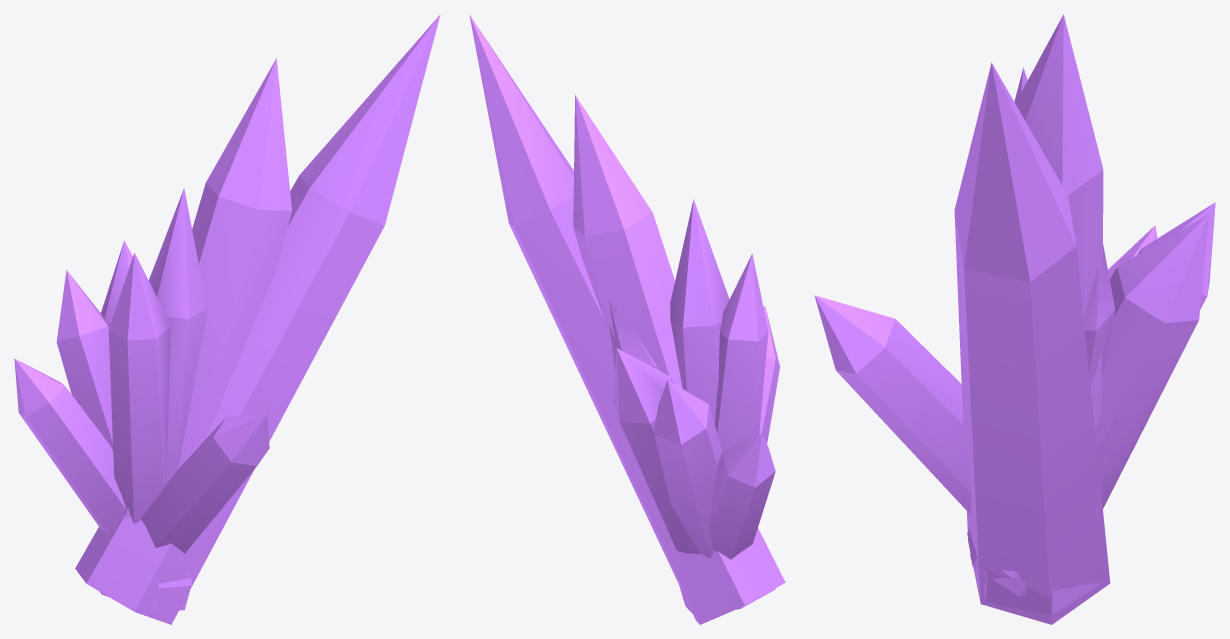
File: obj_deco_cristales_2.glb
The picture shows the model from 3 angles, left to right: view 1: azimuth 30°, elevation 25°; view 2: azimuth 150°, elevation 25°; view 3: azimuth 270°, elevation 25°; orthographic projection. The views are drawn at different scales.
Visible parts, largest first — view 1: propforge-libre-deco_cristales; view 2: propforge-libre-deco_cristales; view 3: propforge-libre-deco_cristales.
Part boxes in pixels (bbox=[...]): propforge-libre-deco_cristales: bbox=[14, 14, 440, 624]; propforge-libre-deco_cristales: bbox=[469, 14, 785, 624]; propforge-libre-deco_cristales: bbox=[814, 14, 1215, 624].
Bounding box in the file's own units: 0.4564 × 0.6543 × 0.326.
